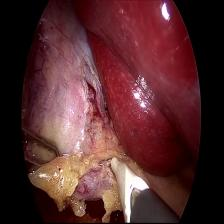Grasper: (18, 123, 62, 173)
Hook: (98, 155, 147, 215)
